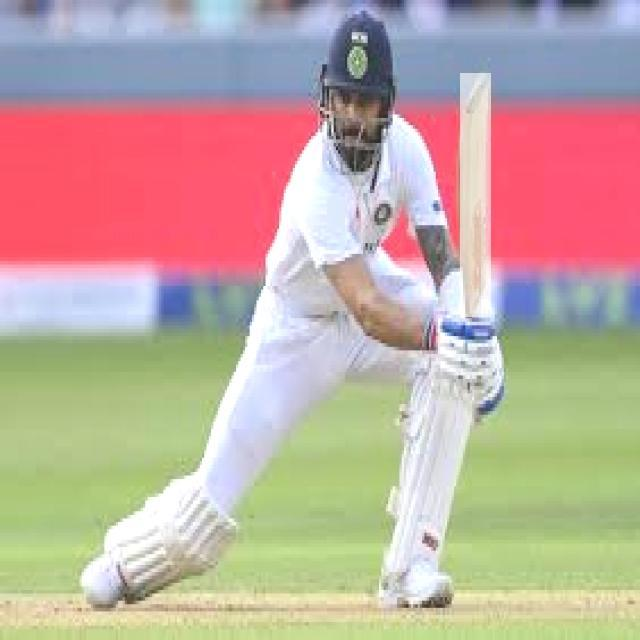bat: (460, 71, 499, 324)
toe: (464, 78, 489, 110)
